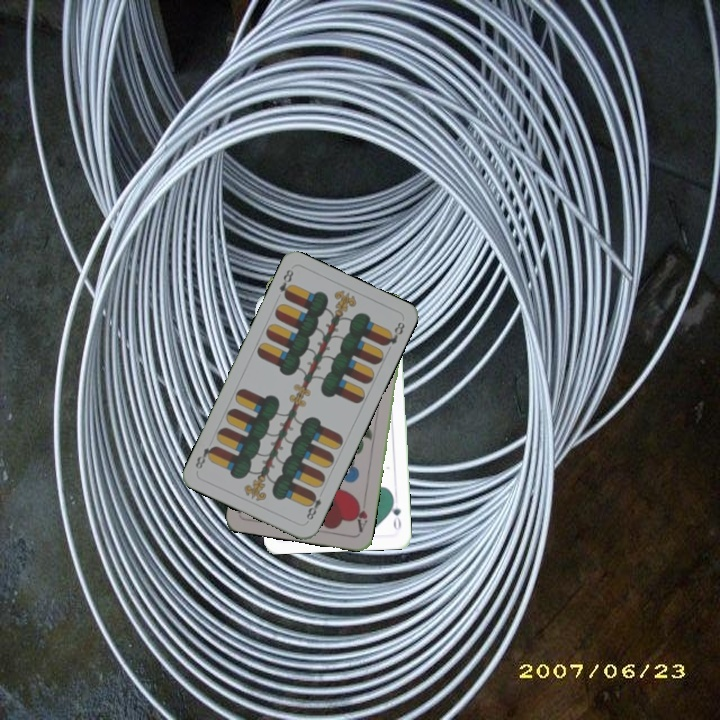E8: (302, 489, 324, 525), (275, 265, 296, 302)
GO: (386, 493, 403, 533)
HA: (351, 495, 370, 535)
